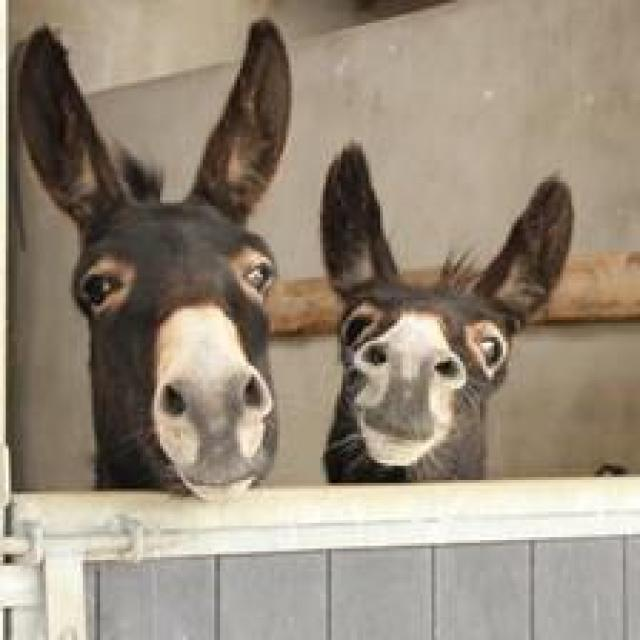Donkey: (12, 14, 292, 500), (317, 140, 574, 483)
